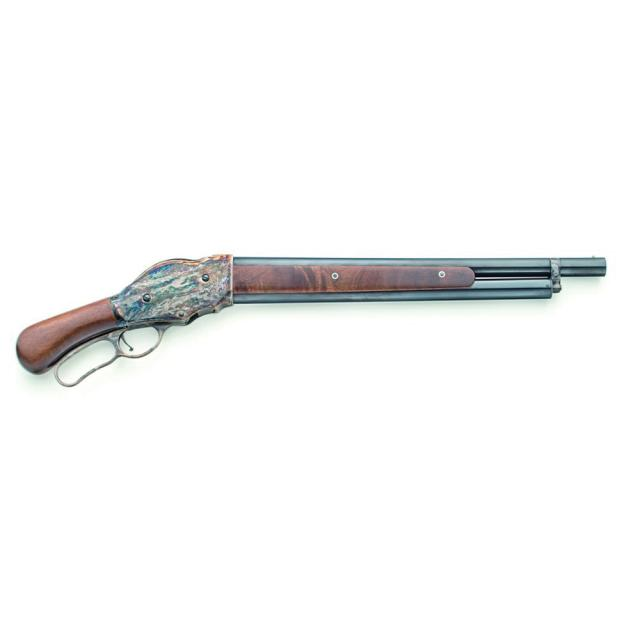ShotGun: (16, 255, 609, 387)
